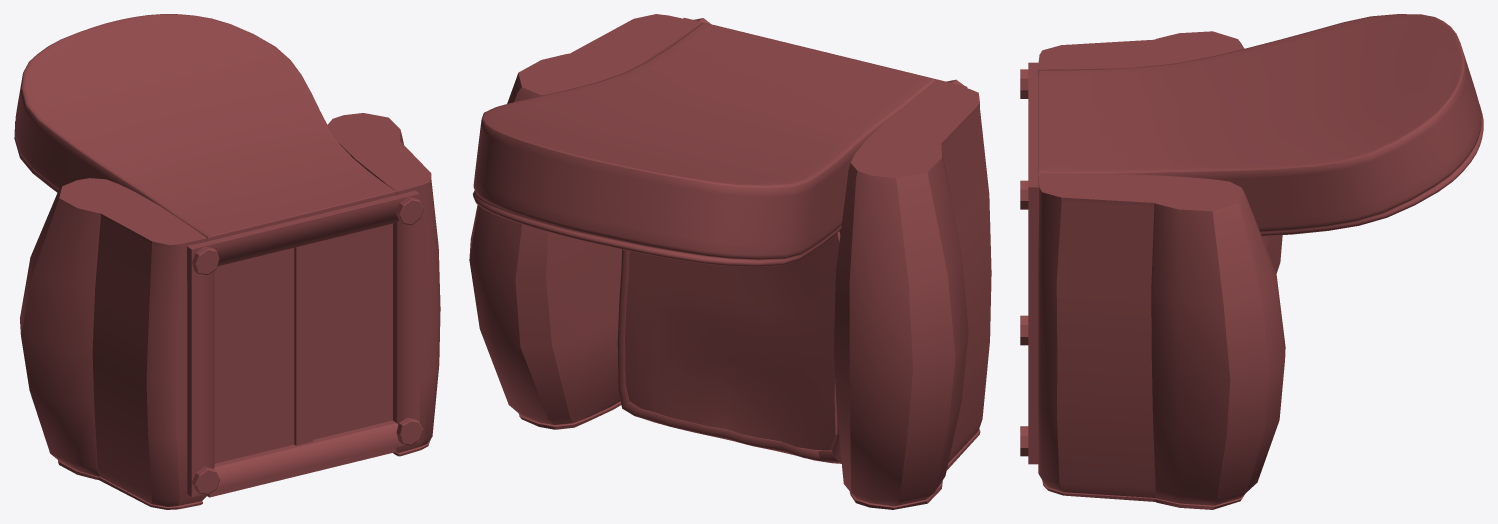
Rendered from fauteuil.fbx.
3 renders of one model, left to right at view 1: azimuth 30°, elevation 25°; view 2: azimuth 150°, elevation 25°; view 3: azimuth 270°, elevation 25°, orthographic. The views are drawn at different scales.
Visible parts, largest first — view 1: fauteuil; view 2: fauteuil; view 3: fauteuil.
Part boxes in pixels (x1,y1,x2,y2): fauteuil: (14,14,440,509); fauteuil: (469,14,991,509); fauteuil: (1020,14,1483,509).
Bounding box in the file's own units: 132 × 105 × 121.
